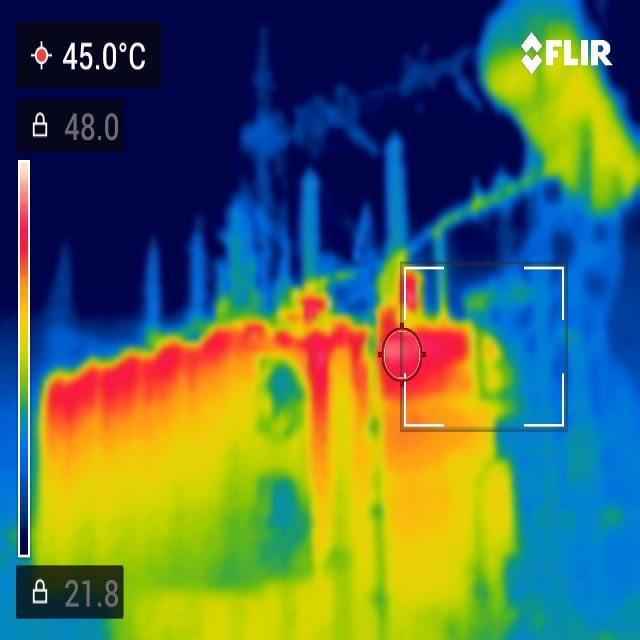Loose Joint -Faulty: (48, 297, 498, 459)
